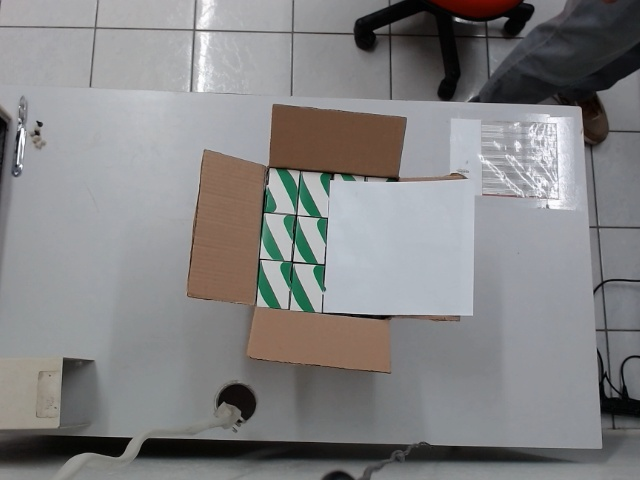divisor: (321, 178, 477, 318)
item: (258, 211, 297, 264), (297, 166, 335, 219), (289, 261, 326, 315), (264, 166, 302, 218), (255, 258, 293, 309), (290, 213, 327, 264)
